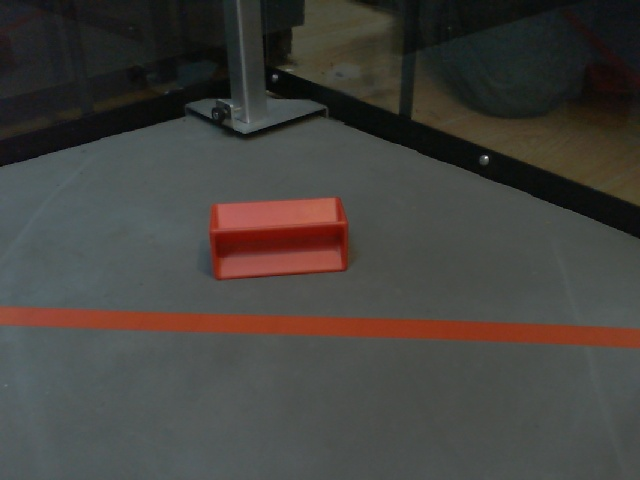RedSample: (204, 195, 351, 281)
